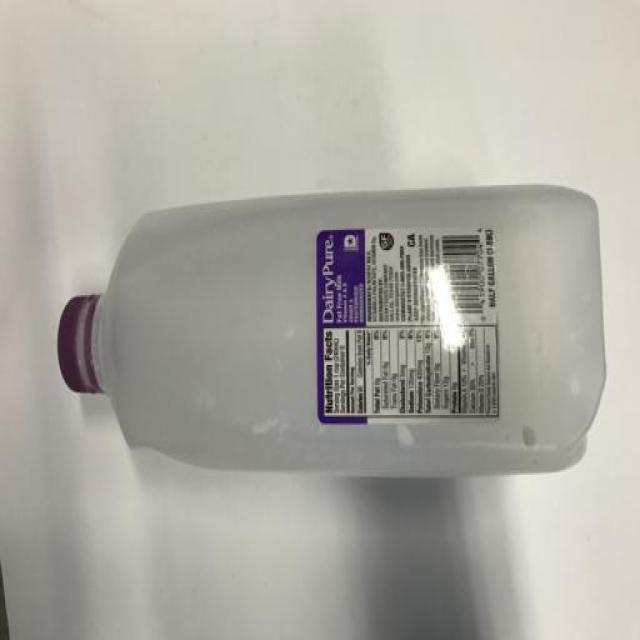Trash: (54, 200, 598, 468)
